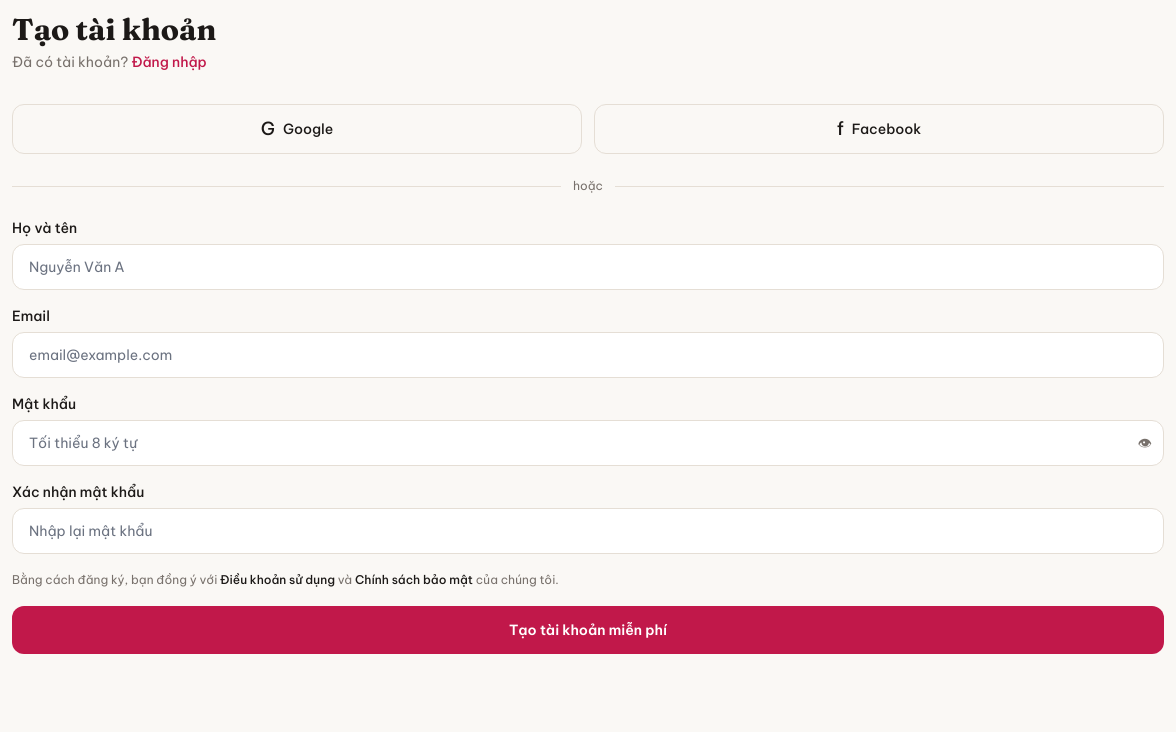
Test: RegisterPage.vue › displays backend error for duplicate email (409)
Step 1. Type "Test User" into the field labelled "Họ và tên" → (588, 267), box [12,244,1164,290]
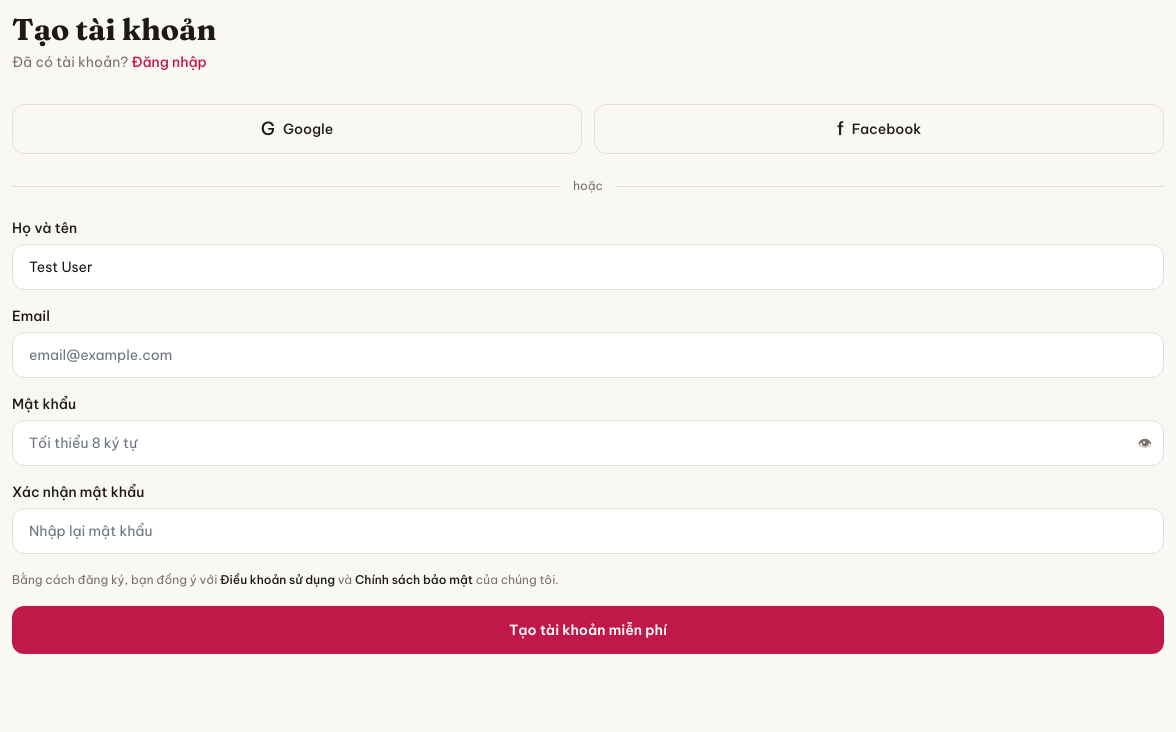
Step 2. Type "test@example.com" into the field labelled "Email" → (588, 355), box [12,332,1164,378]
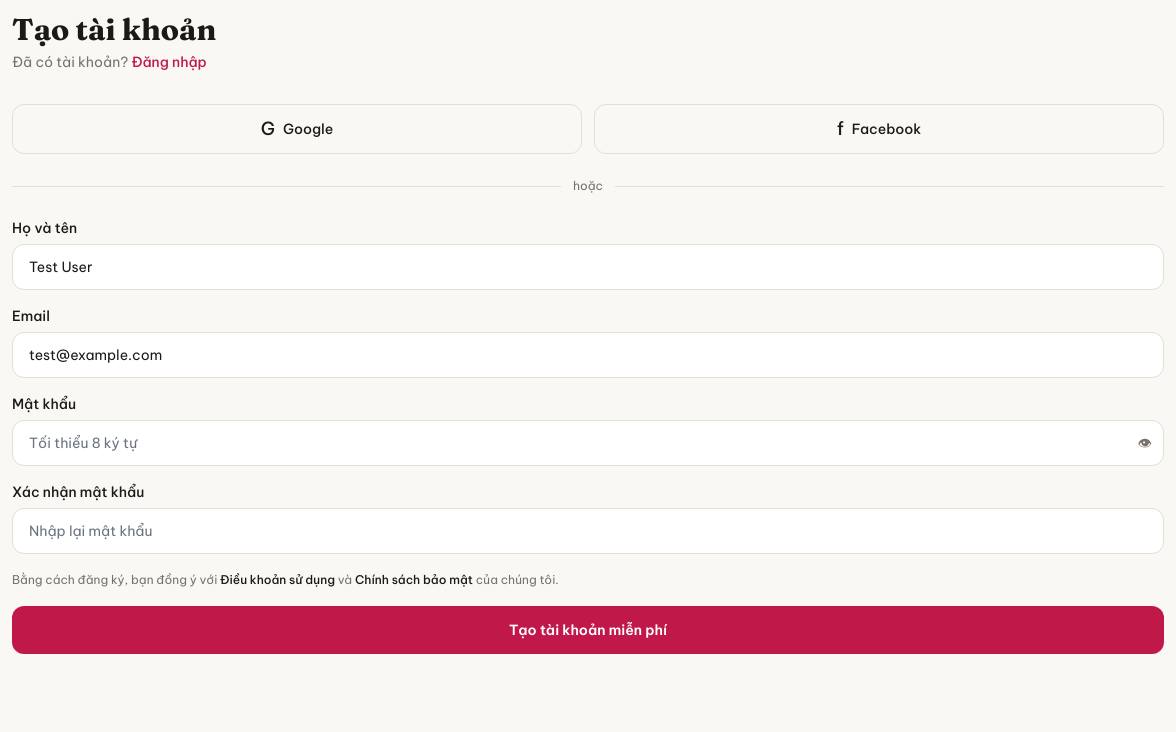
Step 3. Type "password123" into the password field labelled "Mật khẩu" → (588, 443), box [12,420,1164,466]
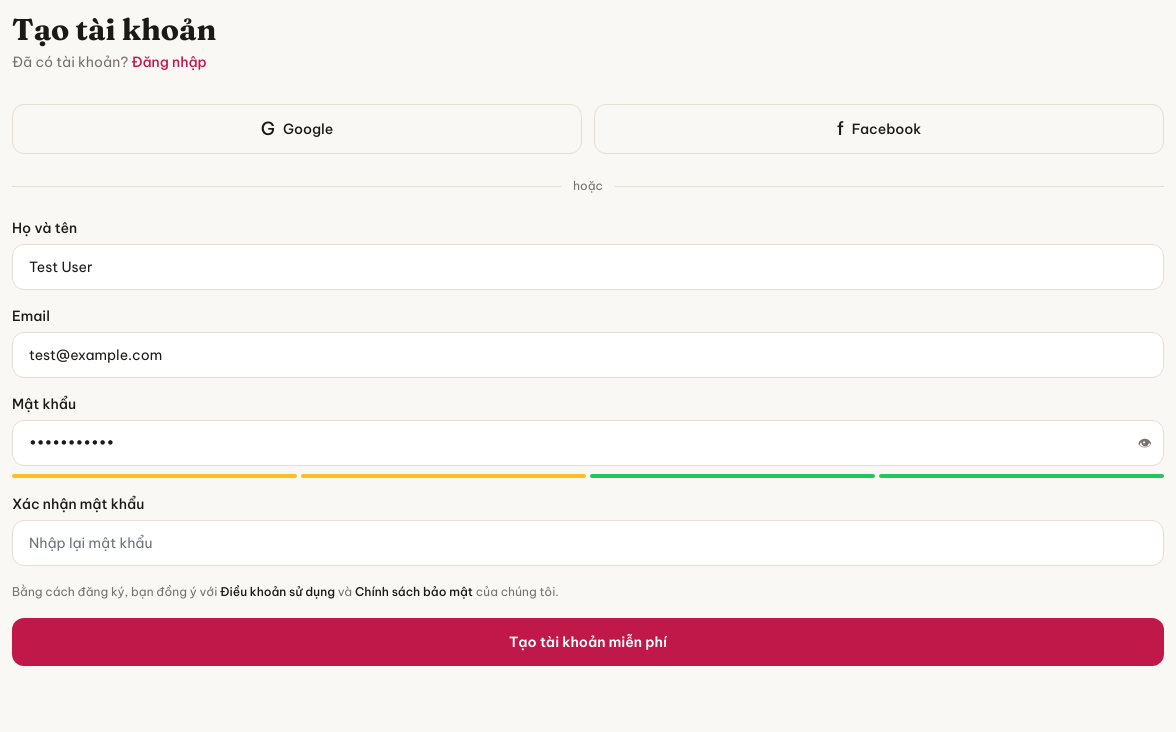
Step 4. Type "password123" into the password field labelled "Xác nhận mật khẩu" → (588, 543), box [12,520,1164,566]
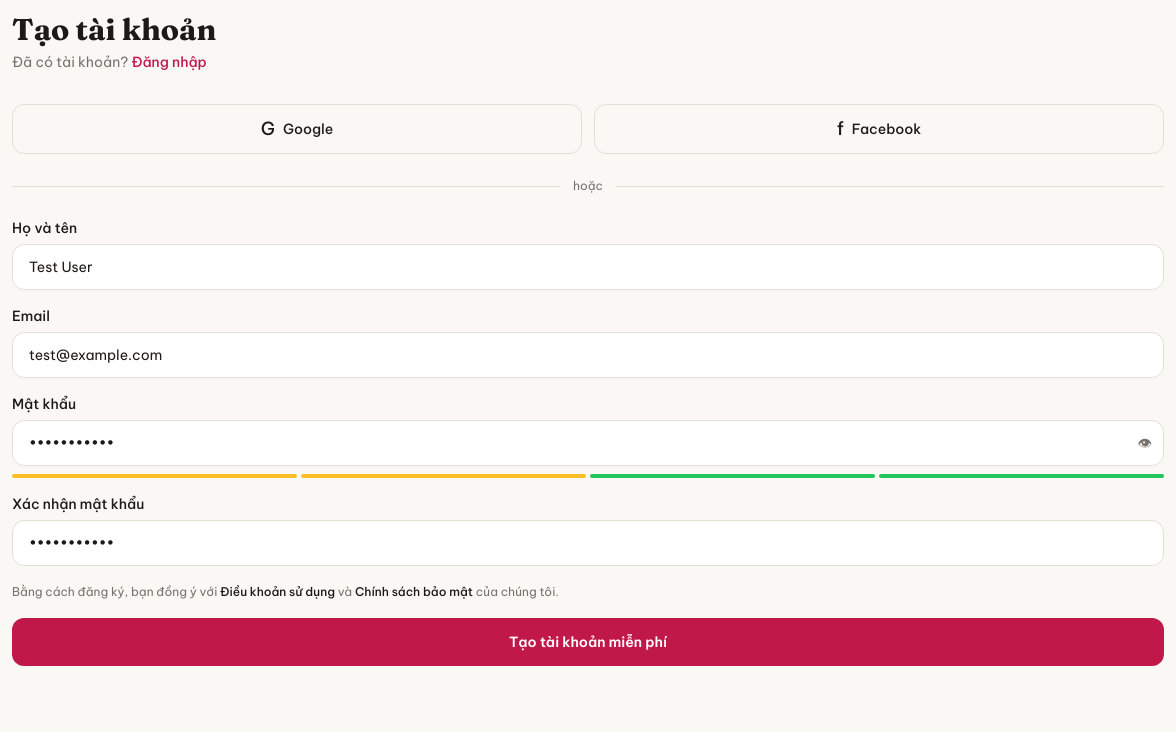
Step 5. Submit the form, box [12,218,1164,666]
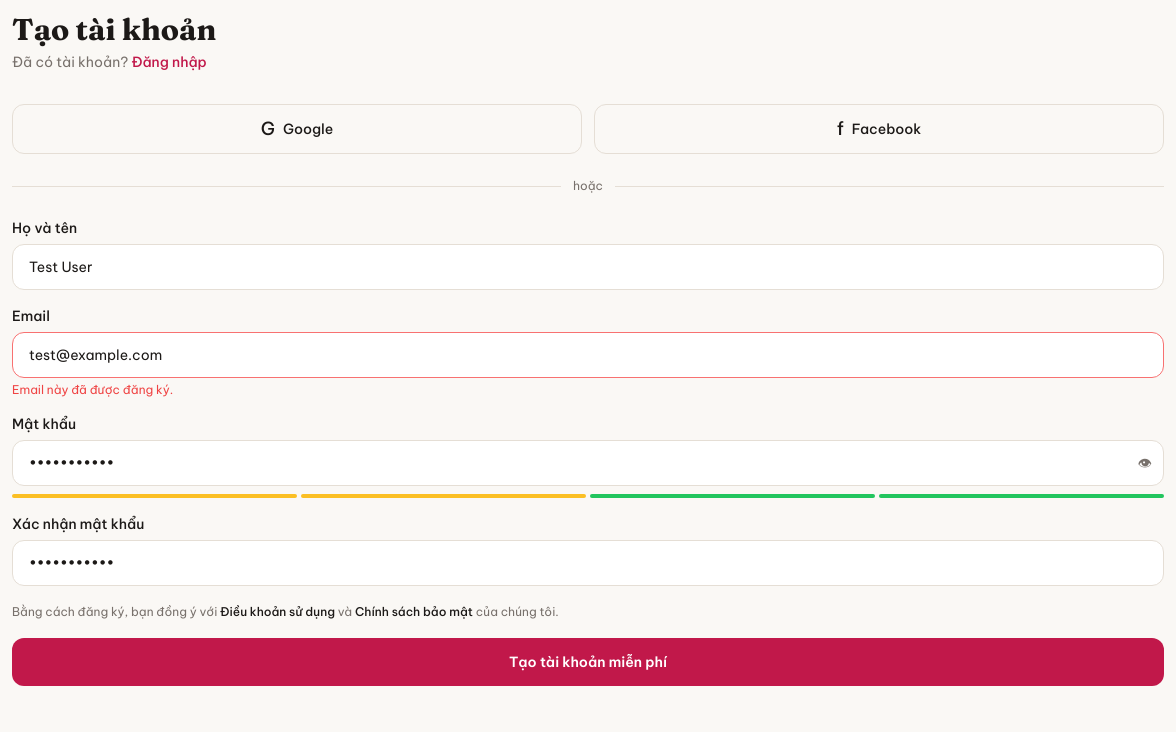
Check: the text "Email này đã được đăng ký." is shown, box [12,382,173,397]
